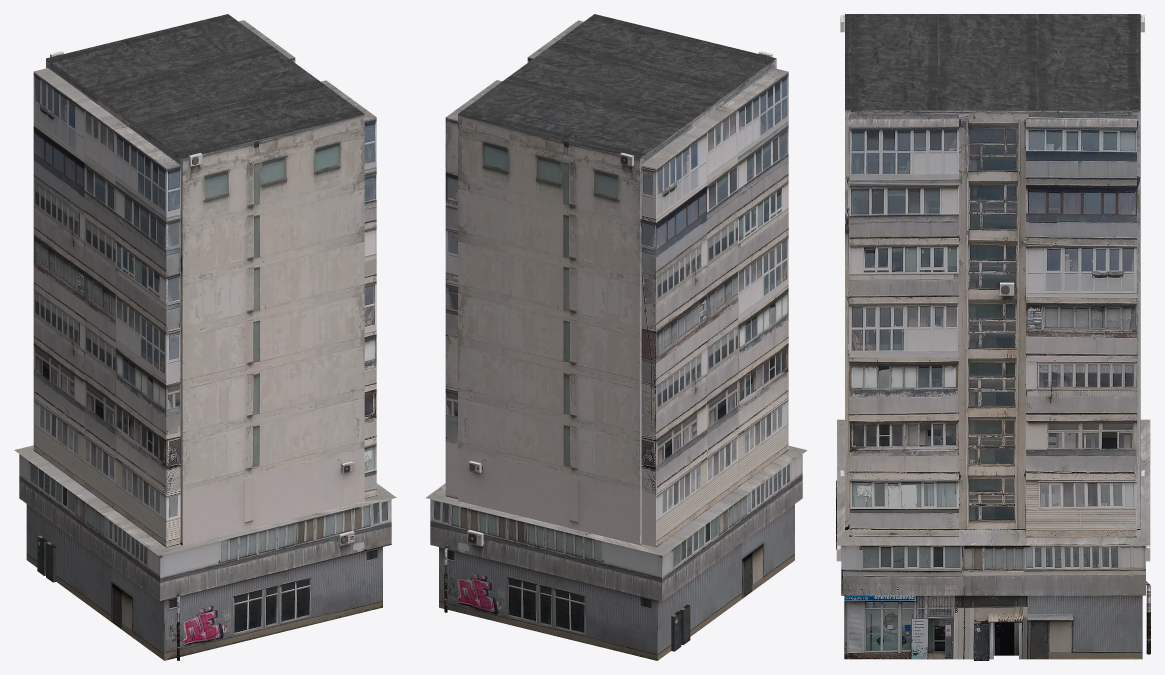
Rendered from residential9.glb.
3 views of the same model, side by side, from view 1: azimuth 30°, elevation 25°; view 2: azimuth 150°, elevation 25°; view 3: azimuth 270°, elevation 25° (orthographic). The views are drawn at different scales.
Parts seen in each view (by area): view 1: Cube; view 2: Cube; view 3: Cube.
Part boxes in pixels (box(x1,y1,x2,y2)): Cube: box(14, 14, 396, 660); Cube: box(425, 14, 807, 660); Cube: box(836, 14, 1150, 660).
Size of the model in its own units: 1420 by 2842 by 1500.
Materials: 2 (2 with a texture image).
